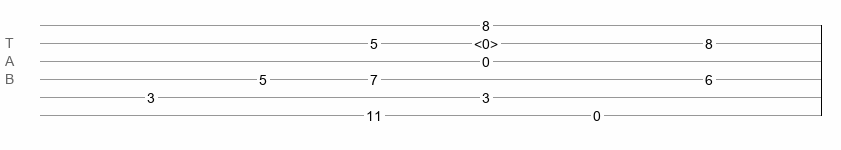0: (482, 54, 490, 64), (593, 108, 601, 118)
11: (366, 108, 382, 118)
3: (147, 90, 155, 100), (482, 90, 490, 100)
5: (259, 72, 267, 82), (370, 36, 378, 46)
6: (705, 72, 713, 82)
7: (370, 72, 378, 82)
8: (482, 18, 490, 28), (705, 36, 713, 46)
harmonic: (474, 36, 498, 46)
